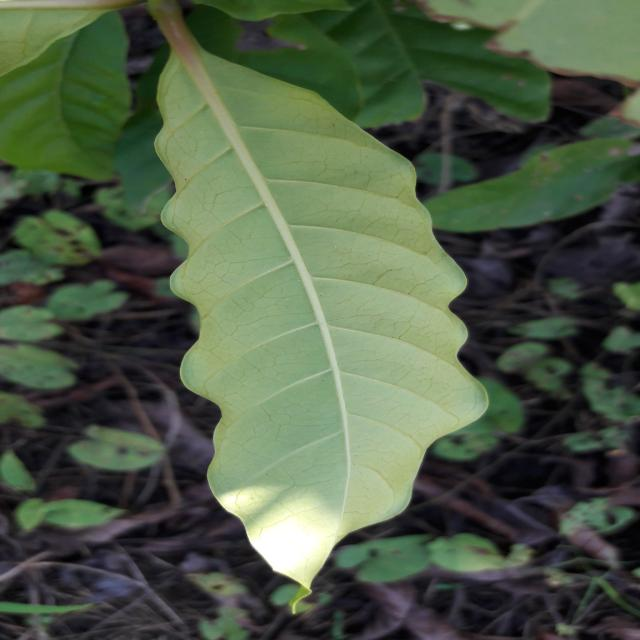Sanas: (131, 0, 490, 593)
